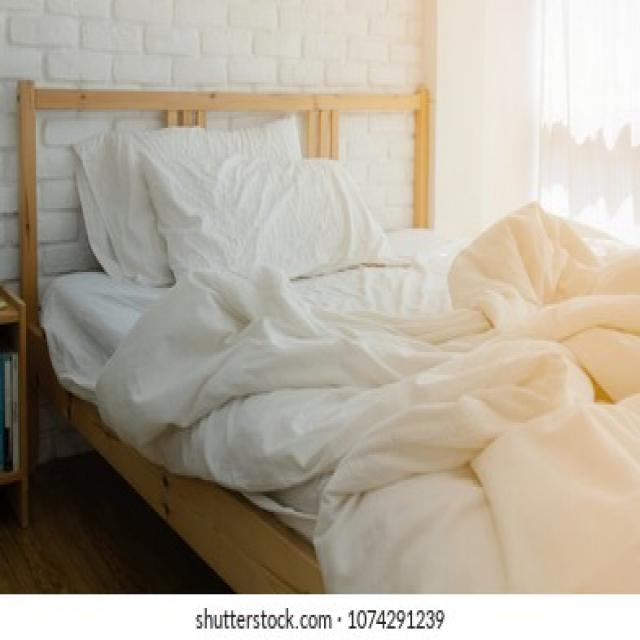bed: (43, 115, 640, 593)
